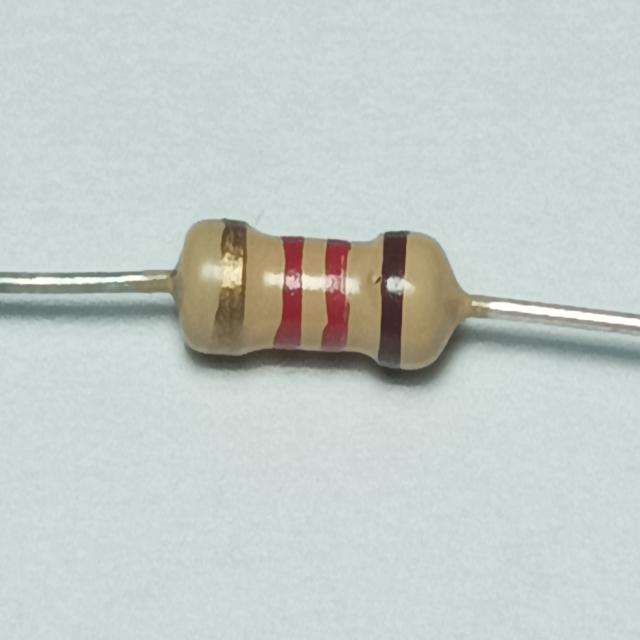1.2k ohms: (164, 200, 472, 400)
